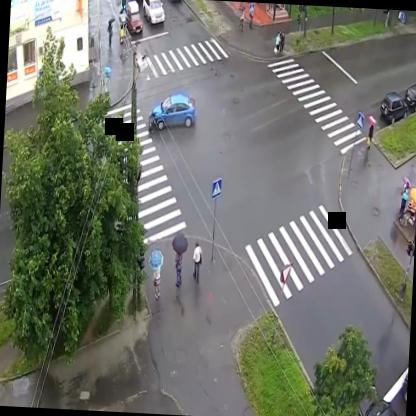accident: (145, 84, 203, 138)
